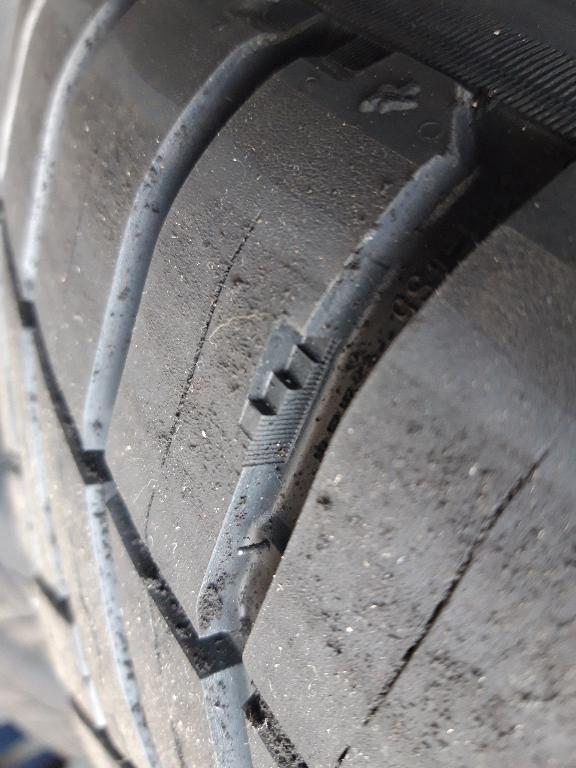temoin:75: (233, 312, 352, 447)
